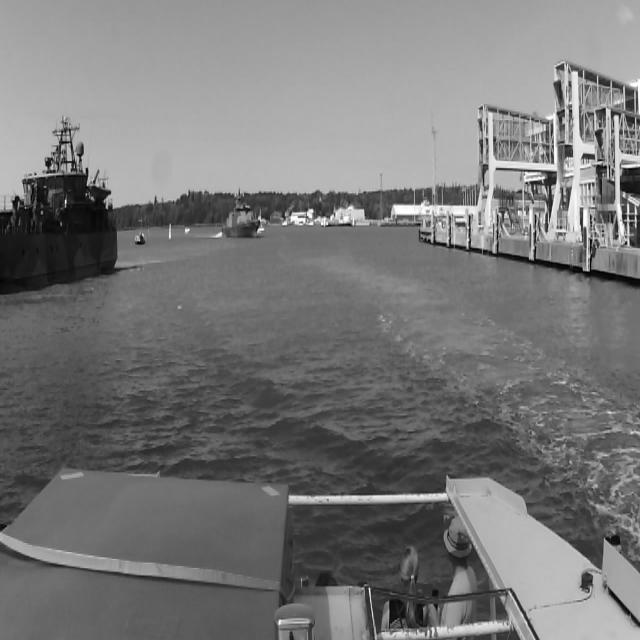buoy: (166, 223, 172, 240)
ship: (7, 112, 121, 290), (220, 190, 260, 238), (132, 202, 148, 245), (184, 226, 190, 234)
